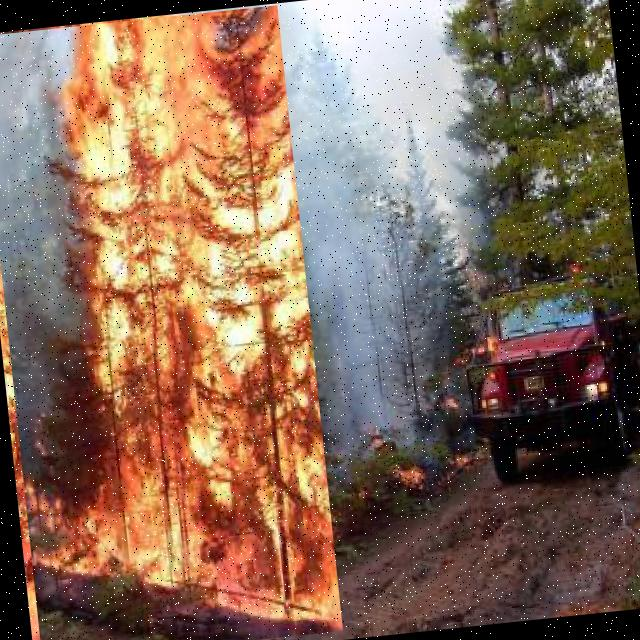fire: (0, 5, 342, 640)
